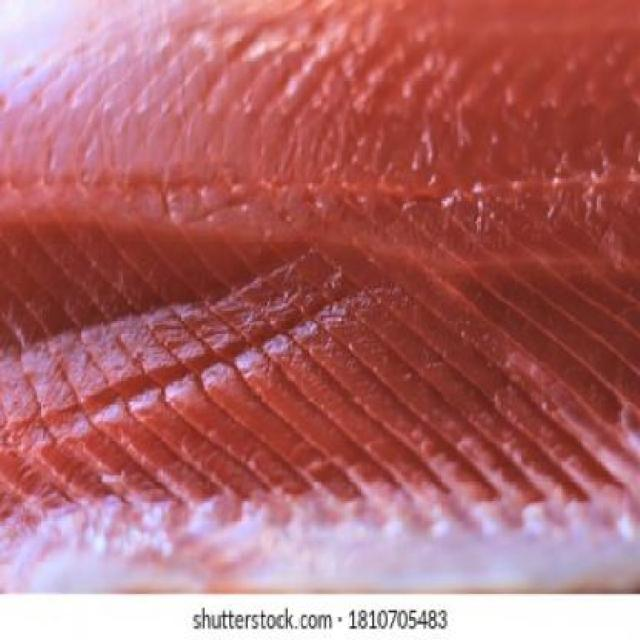salmon: (1, 3, 640, 366), (3, 230, 640, 592)
